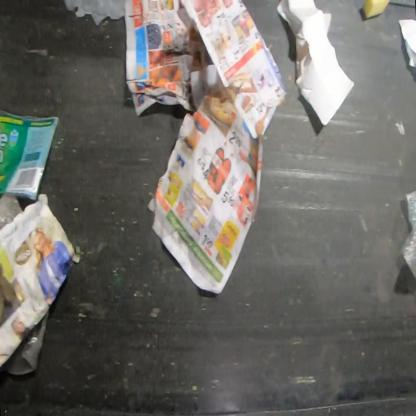soft_plastic: (0, 194, 50, 376), (0, 106, 62, 204), (400, 190, 415, 303)
